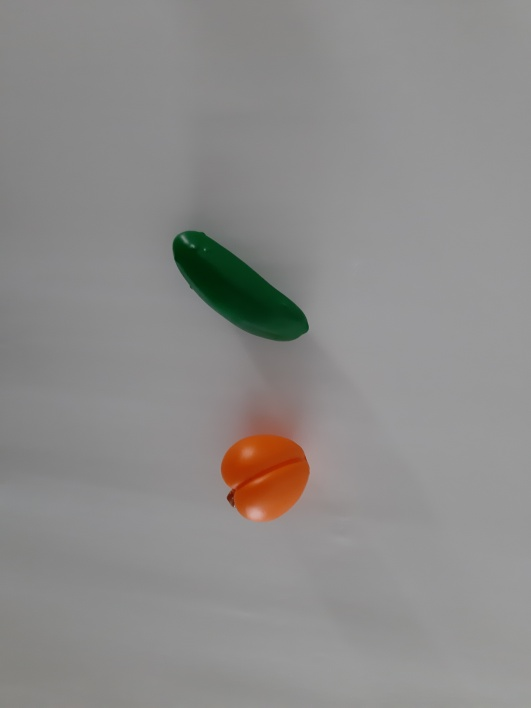apricot: (192, 422, 333, 535)
cucumber: (151, 211, 346, 368)
